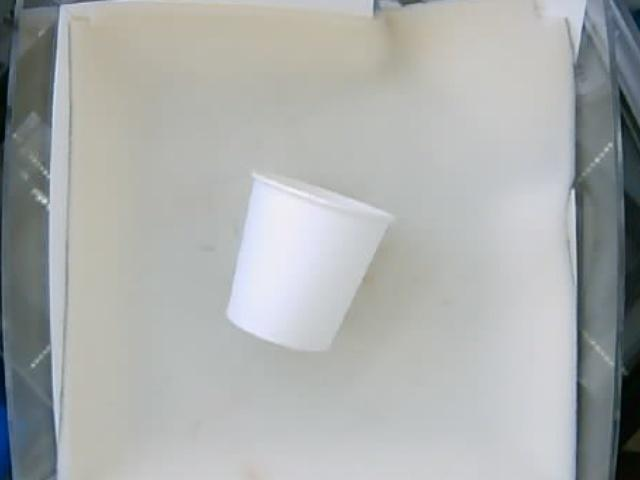Cup: (227, 171, 388, 357)
